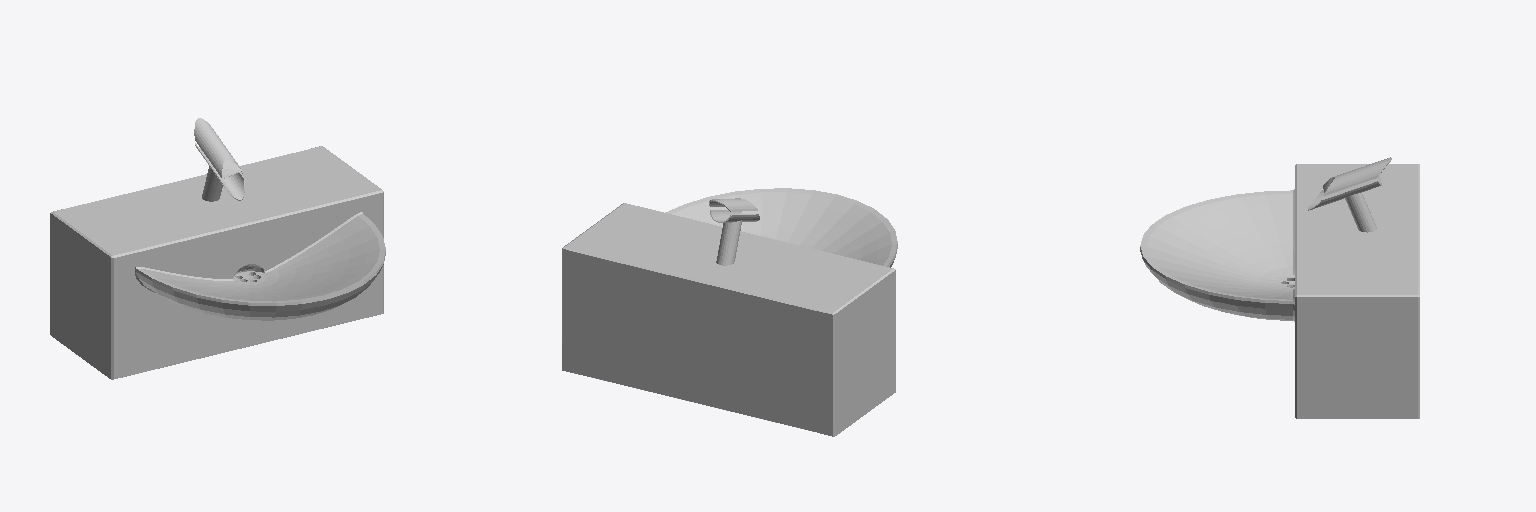
The model's file is piaa.obj.
3 views of the same model, side by side, from view 1: azimuth 30°, elevation 25°; view 2: azimuth 150°, elevation 25°; view 3: azimuth 270°, elevation 25° (orthographic).
Parts seen in each view (by area): view 1: sink.001, knob.001, glasspout.001; view 2: sink.001, fawcetneck.001; view 3: sink.001, knob.001, fawcetneck.001, glasspout.001.
Part boxes in pixels (x1,y1,x2,y2): sink.001: (50, 146, 385, 379); knob.001: (194, 118, 243, 178); glasspout.001: (195, 143, 244, 200); sink.001: (562, 188, 897, 436); fawcetneck.001: (716, 220, 741, 265); sink.001: (1140, 164, 1419, 418); knob.001: (1323, 157, 1391, 195); fawcetneck.001: (1345, 193, 1376, 232); glasspout.001: (1308, 175, 1381, 210).
Bounding box in the file's own units: 3.3 × 2.25 × 2.94.